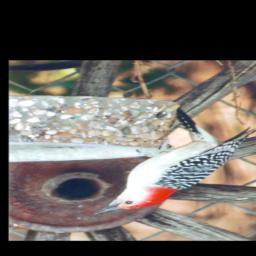Woodpecker: (86, 105, 256, 214)
